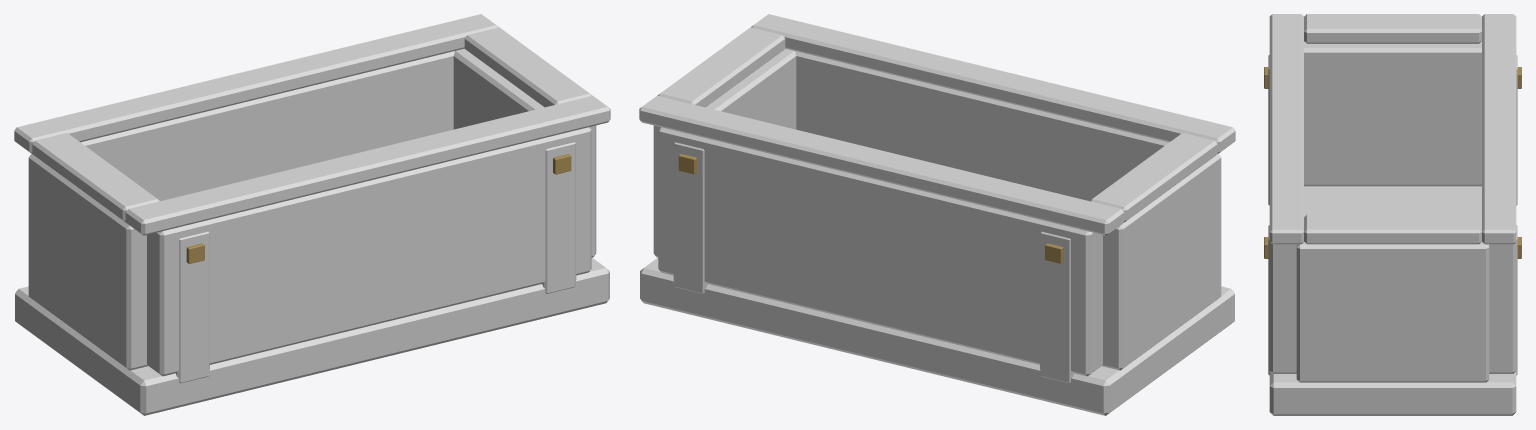
The model's file is WarrensC_WVC026_Sarcophagus_Mars_SM.fbx.
The picture shows the model from 3 angles, left to right: view 1: azimuth 30°, elevation 25°; view 2: azimuth 150°, elevation 25°; view 3: azimuth 270°, elevation 25°; orthographic projection. The views are drawn at different scales.
Visible parts, largest first — view 1: WarrensC_WVC026_Sarcophagus_Mars_SM.001; view 2: WarrensC_WVC026_Sarcophagus_Mars_SM.001; view 3: WarrensC_WVC026_Sarcophagus_Mars_SM.001.
Part boxes in pixels (box(x1,y1,x2,y2)): WarrensC_WVC026_Sarcophagus_Mars_SM.001: box(14, 14, 610, 415); WarrensC_WVC026_Sarcophagus_Mars_SM.001: box(639, 14, 1235, 415); WarrensC_WVC026_Sarcophagus_Mars_SM.001: box(1264, 14, 1521, 415).
Size of the model in its own units: 300 by 150 by 120.
